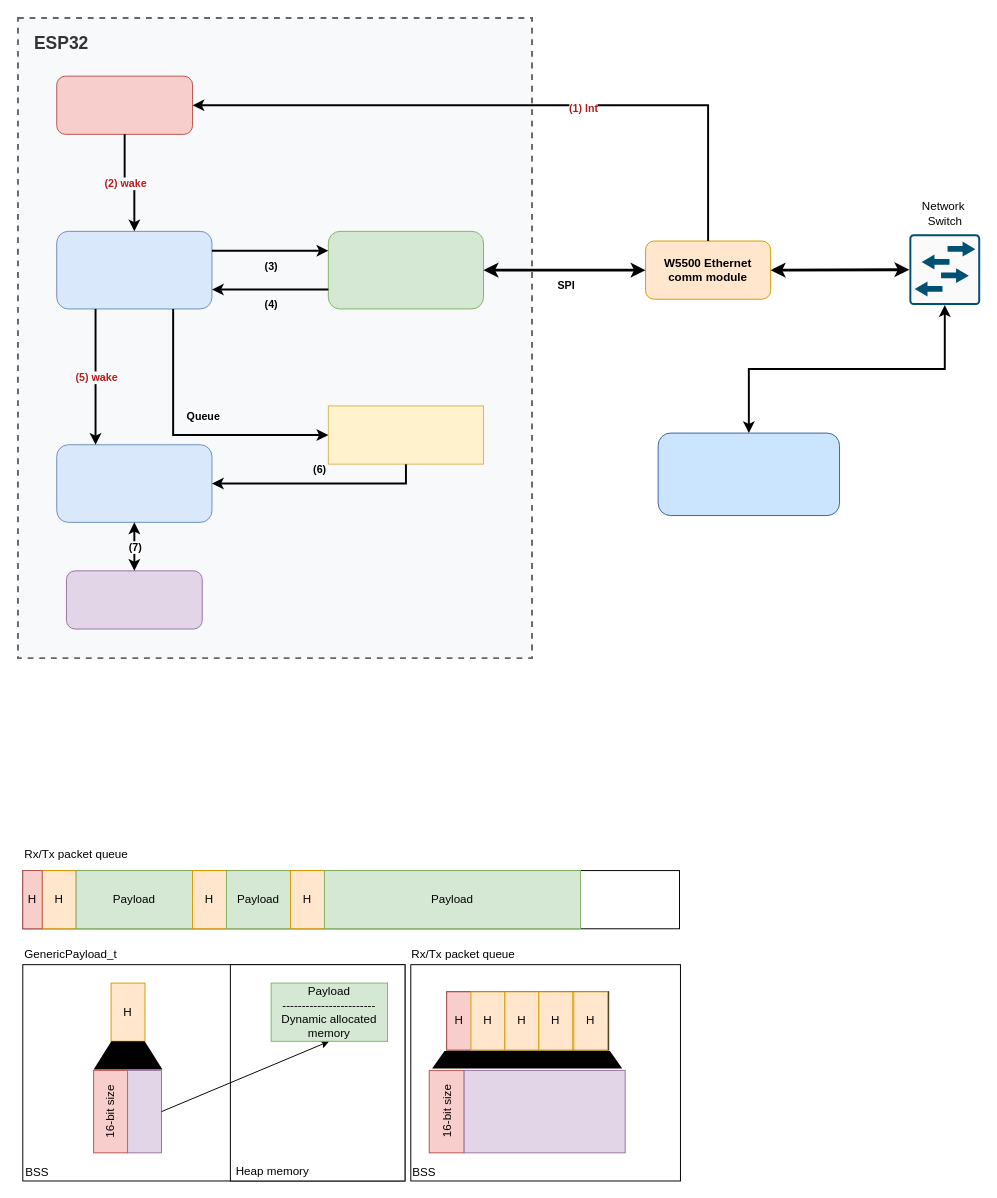
Some shapes in this 997 by 1198 pixel diagram are drawn without their labels. The shapes that lost their labels are listed below. From the top down, each one's centre as x and y in pixels, then its label:
At point 124,104: "Int handler".
At point 134,269: "W5500 receiving & sending packet".
At point 405,269: "Integrated SPI comm module".
At point 405,434: "Rx / Tx Queue".
At point 134,483: "W5500 comm module".
At point 748,474: "PC Monitoring".
At point 133,599: "Other task".
At point 144,1111: "Payload pointer".
At point 544,1111: "Payload Fixed array".
